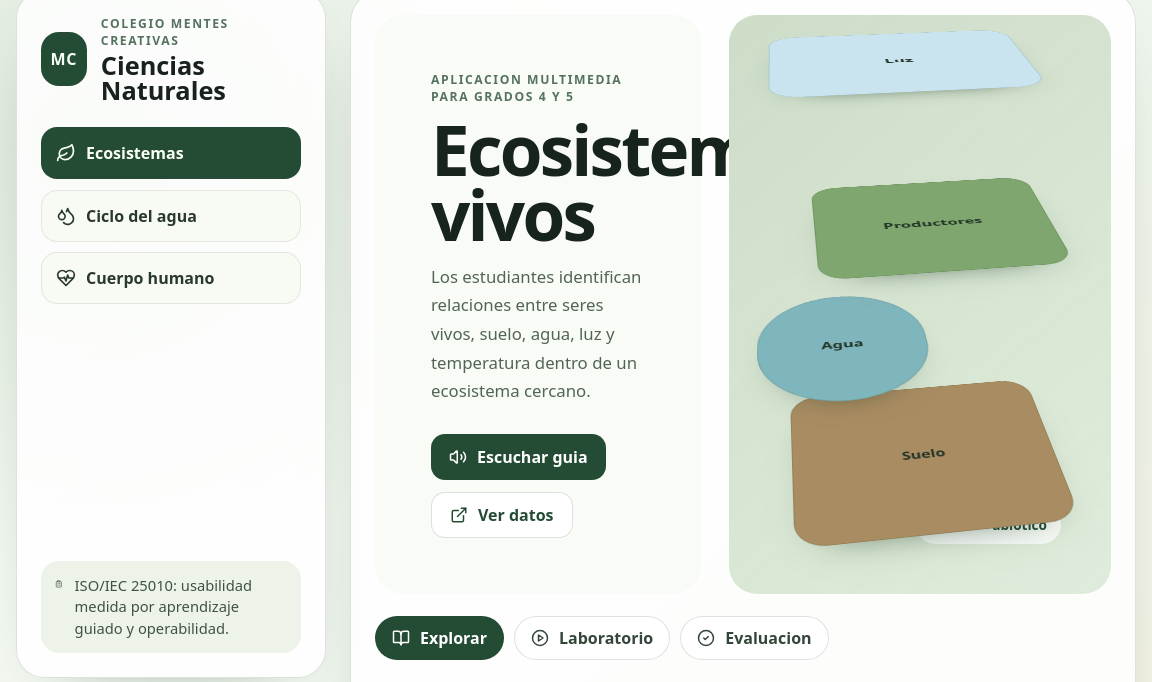
Test: Mentes Creativas Ciencias Naturales › muestra el laboratorio sin indicador de carga permanente
Step 1. Click the tab "Laboratorio" → [592, 638], box x1=514 y1=616 x2=670 y2=660
(page scrolled)
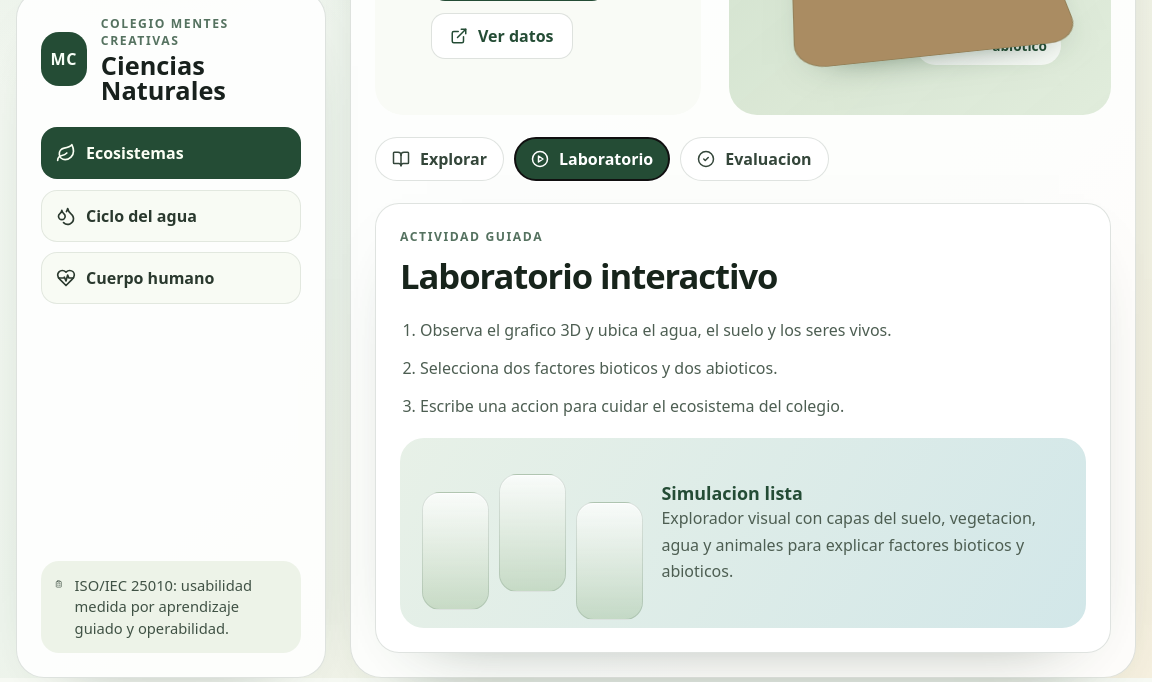
Expected: the heading "Laboratorio interactivo" is shown, x1=400 y1=252 x2=778 y2=299
Expected: the text "Simulacion lista" is shown, x1=661 y1=481 x2=803 y2=505
